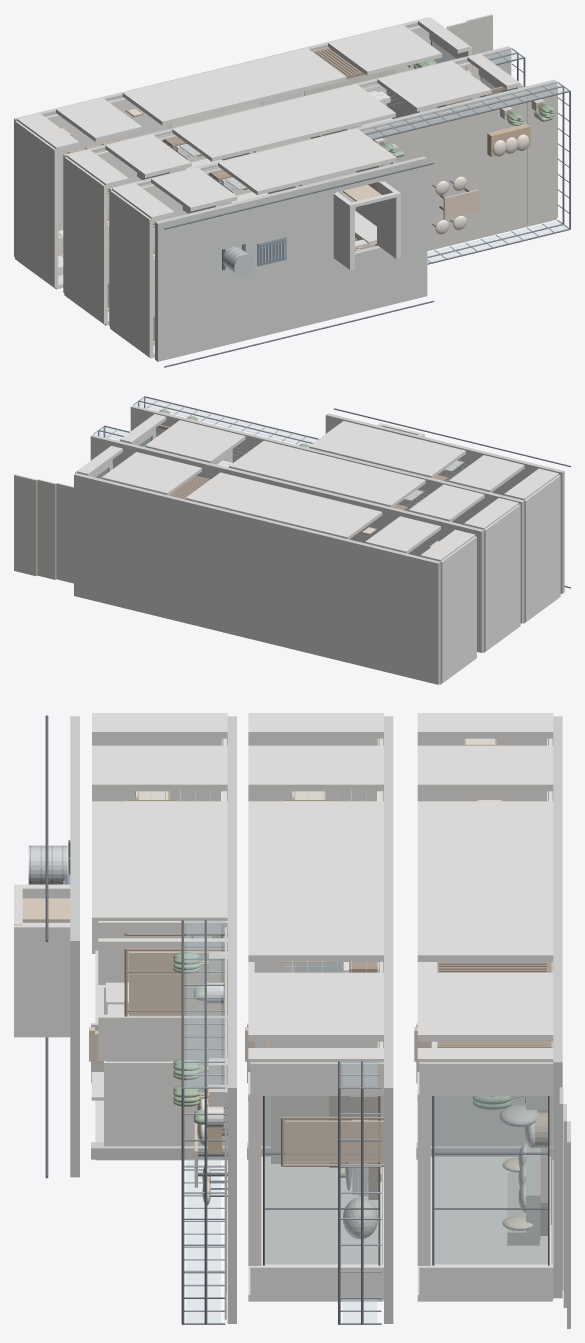
The model's file is NHA_V19_CUTAWAY_NHA_TU_PDF.glb.
The picture shows the model from 3 angles, top to bottom: view 1: azimuth 30°, elevation 25°; view 2: azimuth 150°, elevation 25°; view 3: azimuth 270°, elevation 25°; orthographic projection. The views are drawn at different scales.
Visible parts, largest first — view 1: F3__ROOF__roof_cover_rear, F2__TERRACE__terrace_deck, F3__ROOF__roof_cover_stair_left, F0__SHELL__rear_wall, F2__SHELL__rear_wall, F1__SHELL__rear_wall, F2__SHELL_NEAR__south_wall_7, F1__SHELL_NEAR__south_wall_7, F0__SHELL_NEAR__south_wall_7, F0__SHELL_NEAR__south_wall_14.15, F1__SHELL_NEAR__south_wall_14.15, F0__SHELL_NEAR__south_wall_4.82 (+37 smaller); view 2: F0__SLAB__architectural_floor_slab, F1__SLAB__architectural_floor_slab, F1__SHELL__rear_wall, F0__SHELL__rear_wall, F2__SHELL__rear_wall, F2__SLAB__architectural_floor_slab, F0__SHELL_NEAR__south_wall_7, F1__SHELL_NEAR__south_wall_7, F2__SHELL_NEAR__south_wall_7, F0__SHELL_NEAR__south_wall_14.15, F1__SHELL_NEAR__south_wall_14.15, F0__EXTERIOR__front_tread_3 (+22 smaller); view 3: F0__GLASS__front_sliding_glazing, F1__GLASS__front_sliding_glazing, F2__SHELL_NEAR__south_wall_7, F0__SHELL_NEAR__south_wall_7, F1__SHELL_NEAR__south_wall_7, F0__SHELL__north_boundary_wall, F1__SHELL__north_boundary_wall, F0__SHELL_NEAR__south_wall_14.15, F1__SHELL_NEAR__south_wall_14.15, F2__CORE__stair_core_return_11.13, F3__ROOF_ACCESS__rooftop_access_wall_10.2, F0__SHELL_NEAR__south_wall_1.78 (+63 smaller).
Boxes of the visible parts, x1,y1,x2,y2 form: F3__ROOF__roof_cover_rear: [155, 184, 311, 361]; F2__TERRACE__terrace_deck: [363, 85, 557, 249]; F3__ROOF__roof_cover_stair_left: [311, 236, 427, 324]; F0__SHELL__rear_wall: [15, 120, 58, 287]; F2__SHELL__rear_wall: [110, 190, 153, 357]; F1__SHELL__rear_wall: [64, 157, 107, 324]; F2__SHELL_NEAR__south_wall_7: [266, 128, 396, 183]; F1__SHELL_NEAR__south_wall_7: [220, 95, 350, 149]; F0__SHELL_NEAR__south_wall_7: [171, 59, 301, 113]; F0__SHELL_NEAR__south_wall_14.15: [328, 24, 442, 75]; F1__SHELL_NEAR__south_wall_14.15: [377, 61, 491, 111]; F0__SHELL_NEAR__south_wall_4.82: [122, 81, 210, 125]; F0__SLAB__architectural_floor_slab: [74, 473, 440, 684]; F1__SLAB__architectural_floor_slab: [117, 441, 483, 652]; F1__SHELL__rear_wall: [484, 504, 520, 651]; F0__SHELL__rear_wall: [440, 536, 476, 683]; F2__SHELL__rear_wall: [524, 475, 560, 621]; F2__SLAB__architectural_floor_slab: [157, 411, 524, 623]; F0__SHELL_NEAR__south_wall_7: [225, 482, 339, 528]; F1__SHELL_NEAR__south_wall_7: [268, 450, 383, 496]; F2__SHELL_NEAR__south_wall_7: [309, 421, 423, 467]; F0__SHELL_NEAR__south_wall_14.15: [101, 452, 201, 495]; F1__SHELL_NEAR__south_wall_14.15: [145, 420, 245, 463]; F0__EXTERIOR__front_tread_3: [14, 474, 37, 575]; F0__GLASS__front_sliding_glazing: [434, 1096, 547, 1264]; F1__GLASS__front_sliding_glazing: [265, 1096, 378, 1264]; F2__SHELL_NEAR__south_wall_7: [92, 841, 227, 924]; F0__SHELL_NEAR__south_wall_7: [417, 841, 553, 917]; F1__SHELL_NEAR__south_wall_7: [248, 841, 383, 917]; F0__SHELL__north_boundary_wall: [417, 962, 552, 1301]; F1__SHELL__north_boundary_wall: [248, 962, 383, 1301]; F0__SHELL_NEAR__south_wall_14.15: [417, 972, 553, 1041]; F1__SHELL_NEAR__south_wall_14.15: [248, 972, 383, 1041]; F2__CORE__stair_core_return_11.13: [104, 1061, 227, 1146]; F3__ROOF_ACCESS__rooftop_access_wall_10.2: [14, 923, 70, 1037]; F0__SHELL_NEAR__south_wall_1.78: [417, 745, 553, 791].
Size of the model in its own units: 21.94 by 6.17 by 12.83.
